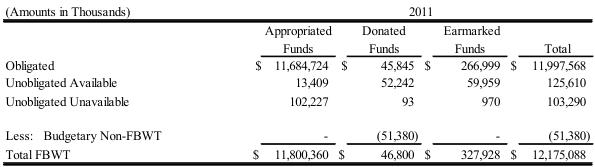table: (4, 3, 589, 161)
table column: (4, 3, 206, 161), (206, 3, 334, 161), (334, 3, 420, 161), (504, 3, 589, 161), (420, 3, 504, 161)
table column header: (4, 3, 589, 56)
table row: (4, 20, 589, 56), (4, 117, 589, 144), (4, 91, 589, 117), (4, 73, 589, 91), (4, 3, 589, 20), (4, 56, 589, 73), (4, 144, 589, 161)
table spanning cell: (206, 3, 589, 20)
